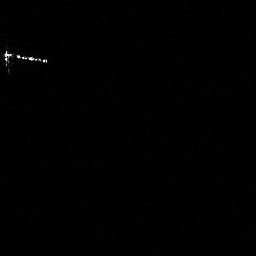ship: (1, 47, 50, 74)
